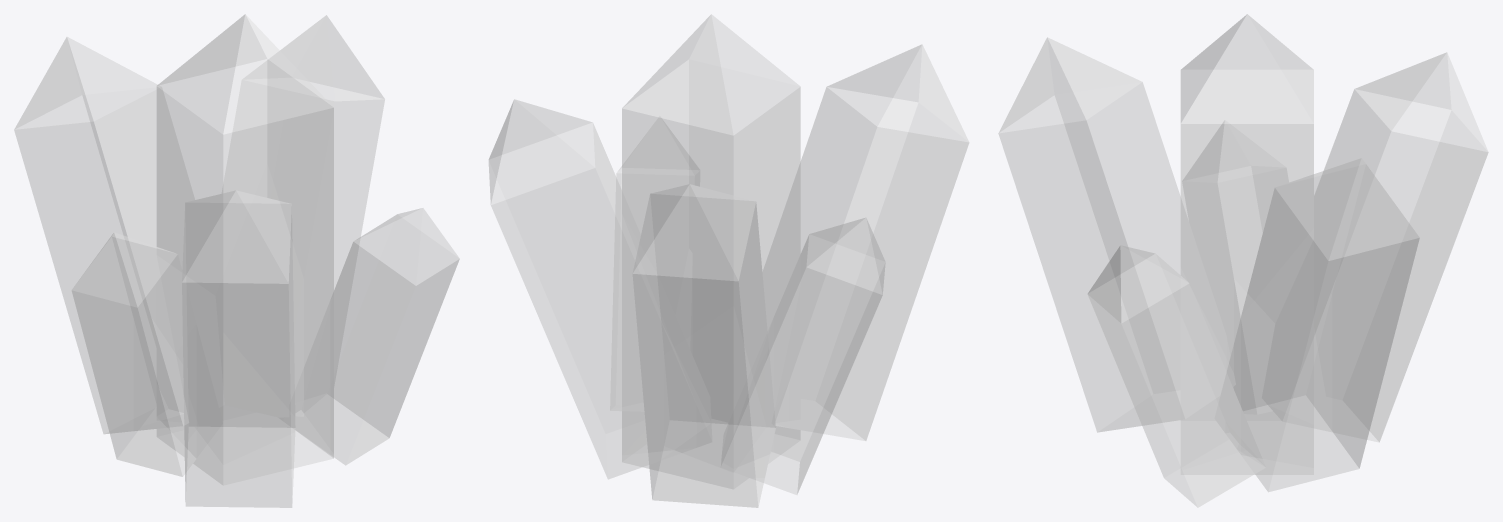
File: cluster.obj
3 renders of one model, left to right at view 1: azimuth 30°, elevation 25°; view 2: azimuth 150°, elevation 25°; view 3: azimuth 270°, elevation 25°, orthographic.
Parts seen in each view (by area): view 1: Crystal_Cube.001, Crystal2_Cube.002, Crystal3_Cube.003, Crystal4_Cube.005, TnyCrystal2_Cube.006, TnyCrystal1_Cube.004; view 2: Crystal_Cube.001, Crystal3_Cube.003, Crystal4_Cube.005, Crystal2_Cube.002, TnyCrystal1_Cube.004, TnyCrystal2_Cube.006; view 3: Crystal_Cube.001, Crystal3_Cube.003, Crystal2_Cube.002, Crystal4_Cube.005, TnyCrystal2_Cube.006, TnyCrystal1_Cube.004.
Part boxes in pixels (<box>): Crystal_Cube.001: <box>157,14,333,485</box>; Crystal2_Cube.002: <box>14,37,194,433</box>; Crystal3_Cube.003: <box>182,190,295,507</box>; Crystal4_Cube.005: <box>222,15,384,416</box>; TnyCrystal2_Cube.006: <box>295,208,459,465</box>; TnyCrystal1_Cube.004: <box>72,232,196,476</box>; Crystal_Cube.001: <box>622,14,800,488</box>; Crystal3_Cube.003: <box>763,44,969,440</box>; Crystal4_Cube.005: <box>489,99,711,479</box>; Crystal2_Cube.002: <box>633,184,775,507</box>; TnyCrystal1_Cube.004: <box>721,218,885,494</box>; TnyCrystal2_Cube.006: <box>610,116,699,410</box>; Crystal_Cube.001: <box>1181,14,1313,474</box>; Crystal3_Cube.003: <box>998,37,1228,432</box>; Crystal2_Cube.002: <box>1268,52,1488,442</box>; Crystal4_Cube.005: <box>1226,158,1419,491</box>; TnyCrystal2_Cube.006: <box>1087,245,1265,507</box>; TnyCrystal1_Cube.004: <box>1182,120,1288,351</box>.
Bounding box in the file's own units: 1.54 × 1.82 × 1.85.
